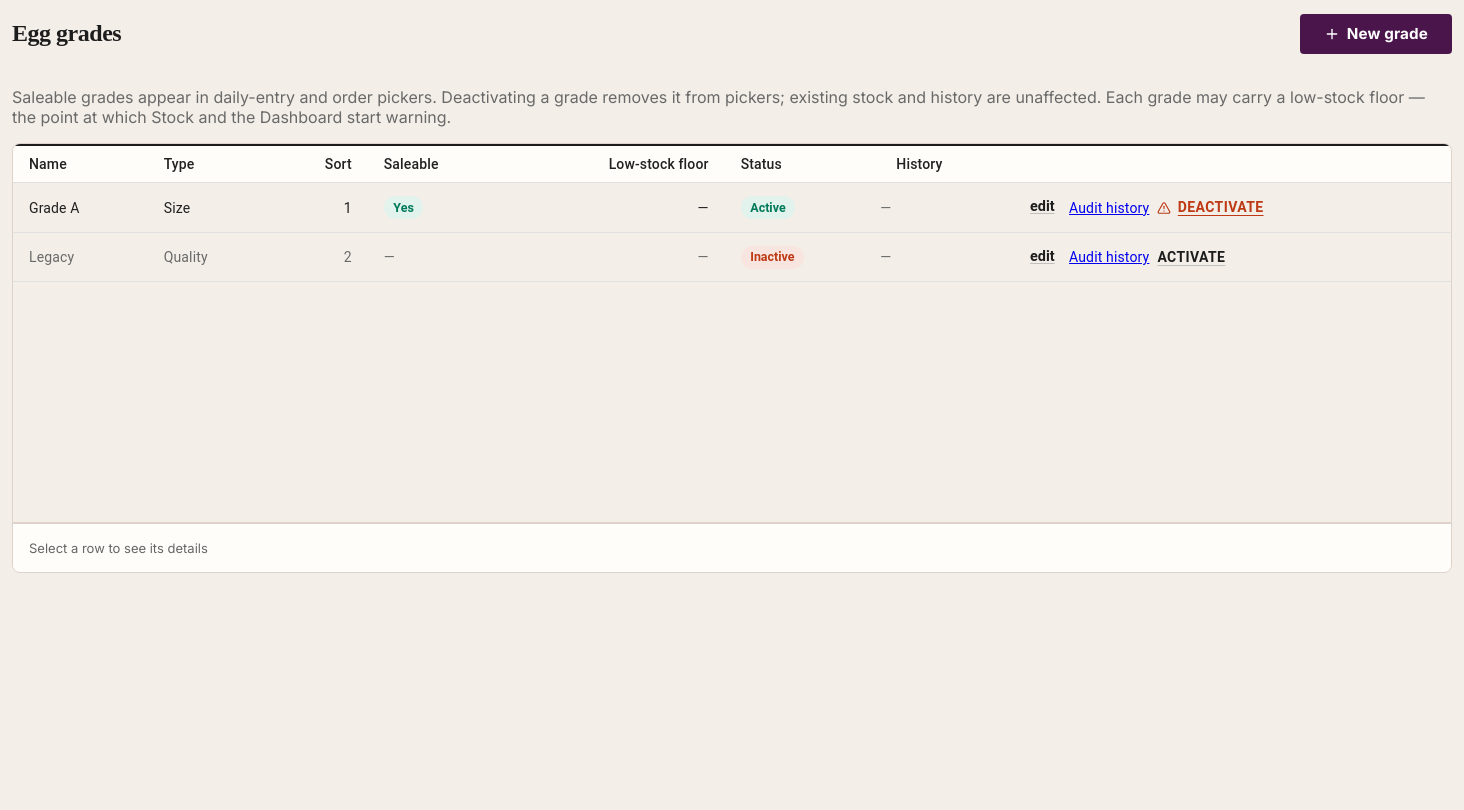
it: GradesPage selected-record inspector (#908) › shows a prompt before any row is selected, then fills in on click
Expected: the text "Grade A" is shown, [13,183,148,232]
Expected: the text "Select a row to see its details" is shown, [29,540,208,556]
Click the row "Grade A Size 1 Yes — Active — edit Audit history deactivate": (732, 208) [13,183,1451,232]
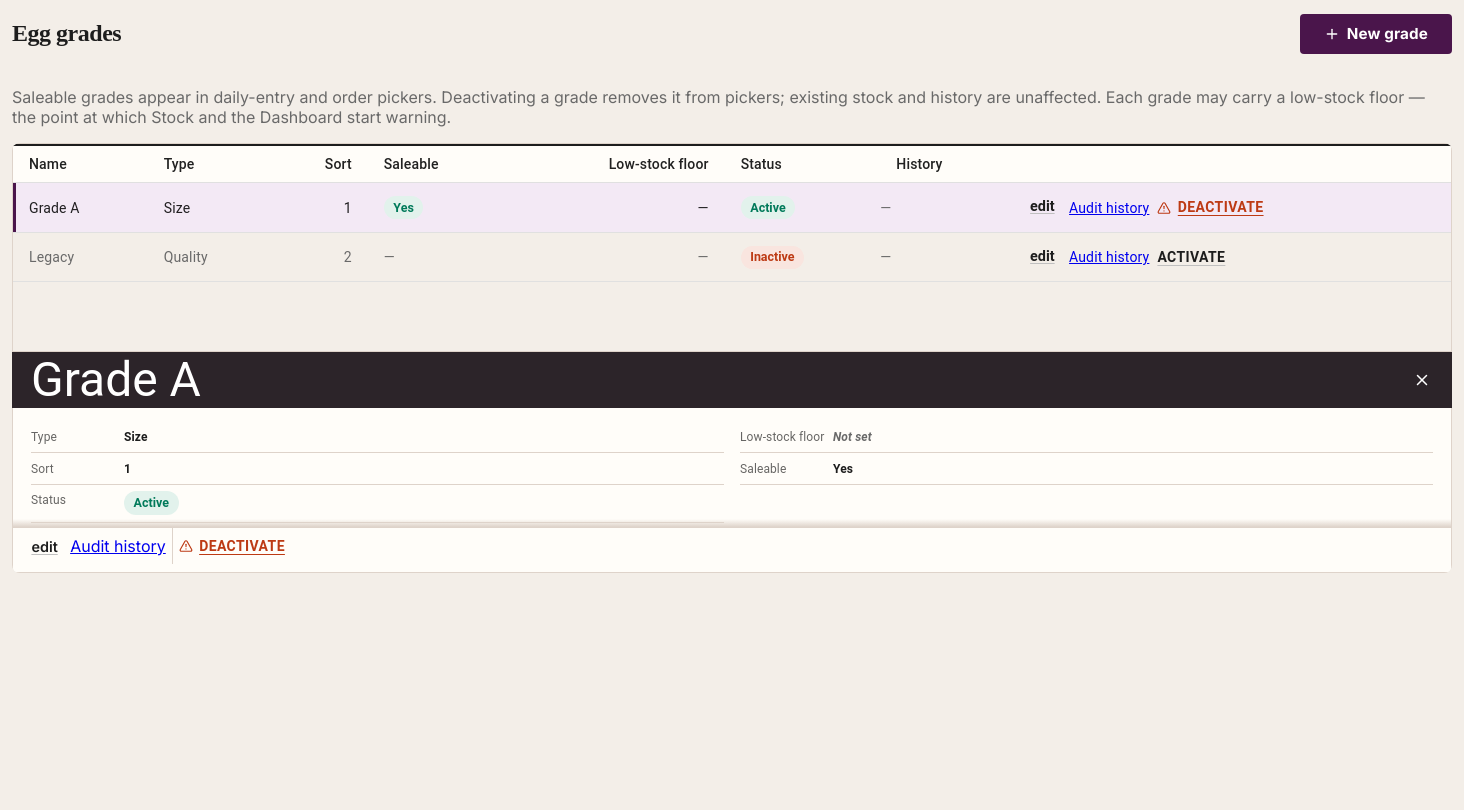
Expected: the heading "Grade A" is shown, [31,352,201,408]
Expected: the text "Size" is shown, [124,430,148,444]
